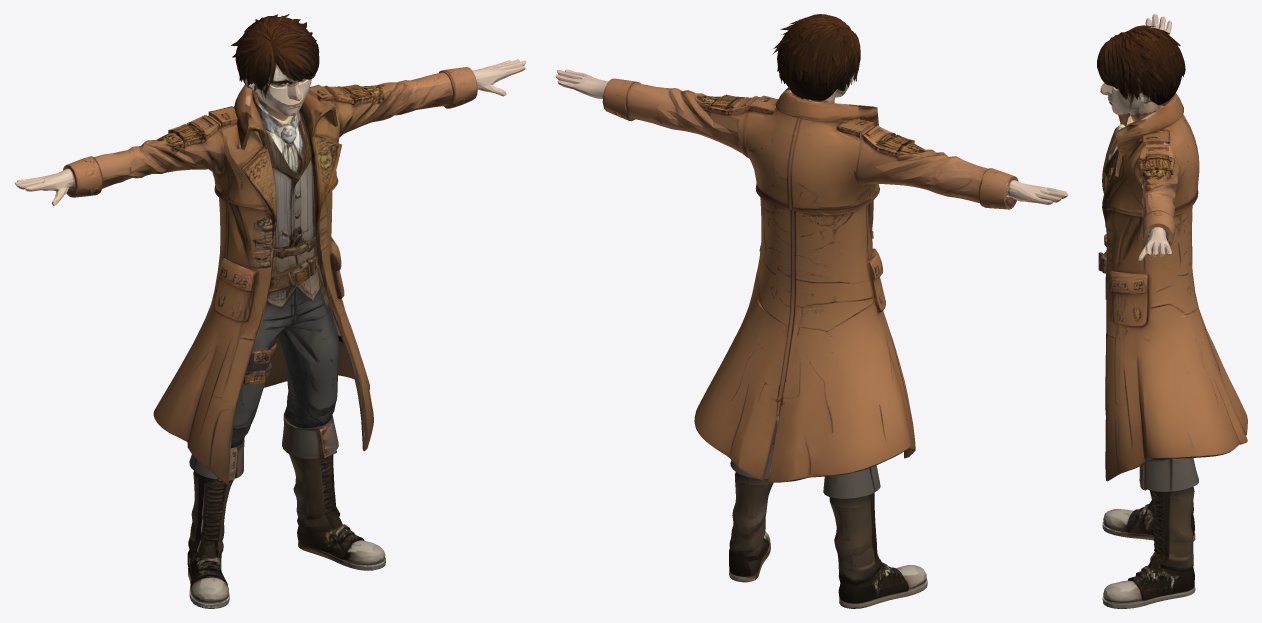
File: base_basic_pbr.fbx
3 renders of one model, left to right at view 1: azimuth 30°, elevation 25°; view 2: azimuth 150°, elevation 25°; view 3: azimuth 270°, elevation 25°, orthographic. The views are drawn at different scales.
Parts seen in each view (by area): view 1: model; view 2: model; view 3: model.
Part boxes in pixels (box(x1,y1,x2,y2)): model: box(14, 14, 526, 608); model: box(555, 14, 1068, 608); model: box(1097, 14, 1247, 608).
Size of the model in its own units: 169 by 176 by 45.01.
1 material, 1 textured.
